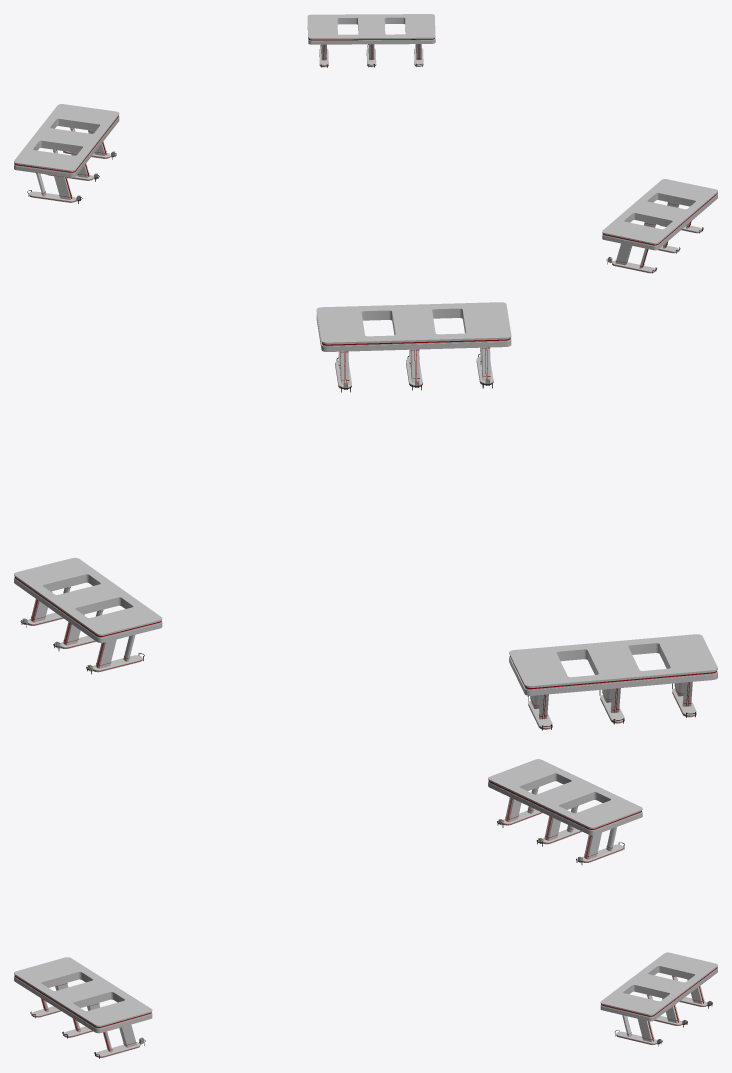
The model's file is MainGate.fbx.
3 renders of one model, top to bottom at view 1: azimuth 30°, elevation 25°; view 2: azimuth 150°, elevation 25°; view 3: azimuth 270°, elevation 25°, orthographic. The views are drawn at different scales.
Parts seen in each view (by area): view 1: MainGate; view 2: MainGate; view 3: MainGate.
Part boxes in pixels (x1,y1,x2,y2): MainGate: (14,14,717,273); MainGate: (14,302,717,730); MainGate: (14,759,717,1058).
Size of the model in its own units: 102 by 7.67 by 114.
